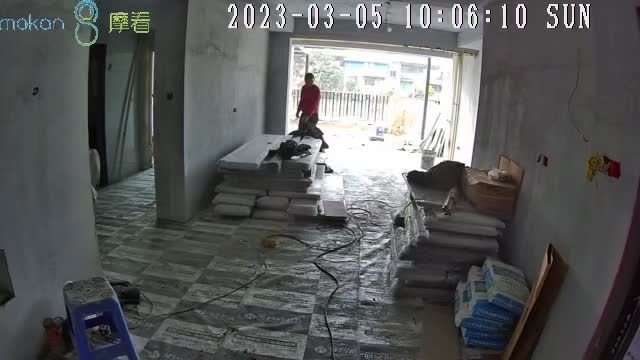people: (296, 73, 320, 131)
window: (292, 45, 456, 154)
